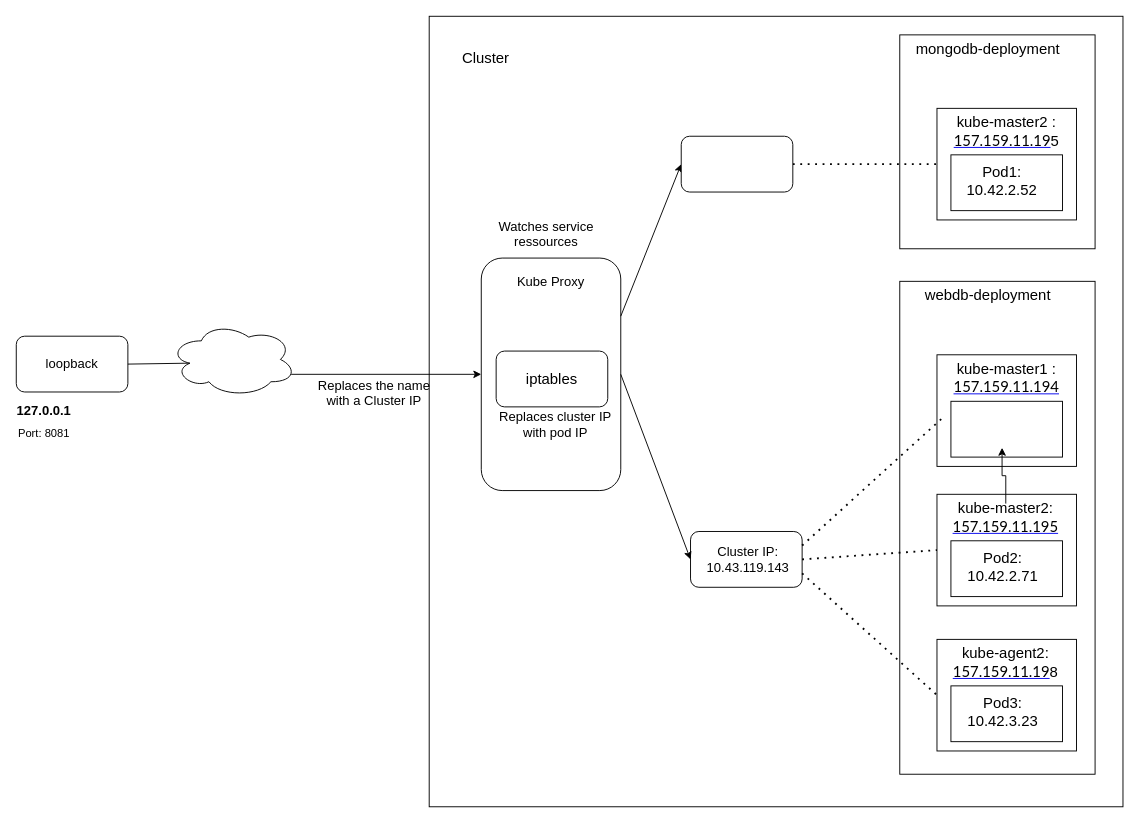
This 1139x823 diagram has some shape labels left out. The shapes that lost their labels are listed below. From the top down, each one's centre as x and y in pixels, then its label:
point 736,163: Cluster IP: 10.42.2.52
point 232,359: Kube DNS
point 1006,428: Pod1: 10.42.0.88
